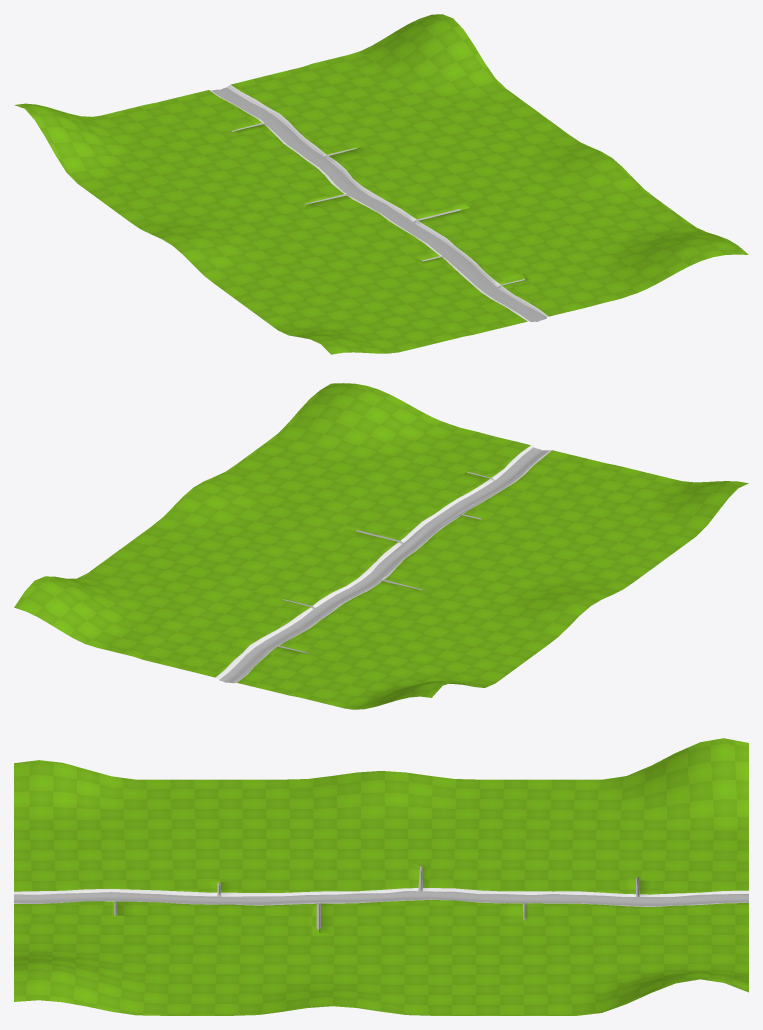
File: Ground.fbx
3 views of the same model, one above another, from view 1: azimuth 30°, elevation 25°; view 2: azimuth 150°, elevation 25°; view 3: azimuth 270°, elevation 25° (orthographic). The views are drawn at different scales.
Parts seen in each view (by area): view 1: Ground; view 2: Ground; view 3: Ground.
Boxes of the visible parts, x1=… form: Ground: x1=14, y1=14, x2=748, y2=354; Ground: x1=14, y1=383, x2=748, y2=709; Ground: x1=14, y1=738, x2=748, y2=1015.
Bounding box in the file's own units: 46.51 × 4.17 × 61.05.
